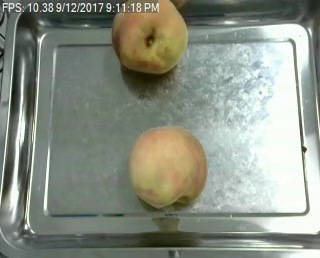Peach: (128, 125, 207, 207), (111, 2, 189, 76)
